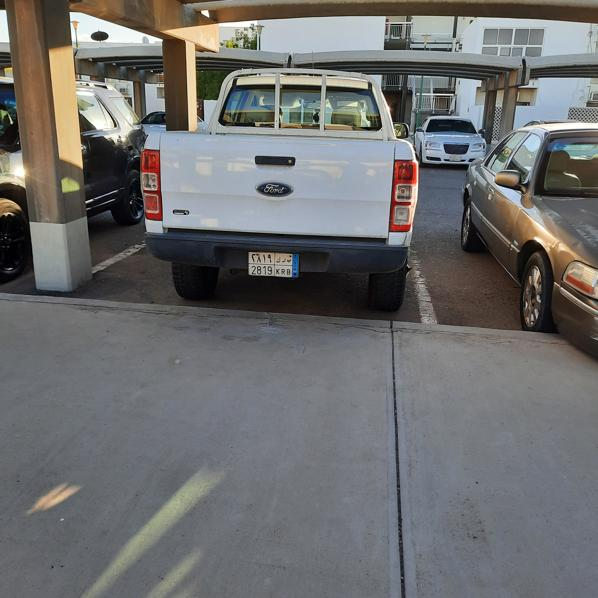numberplate: (248, 251, 299, 277)
